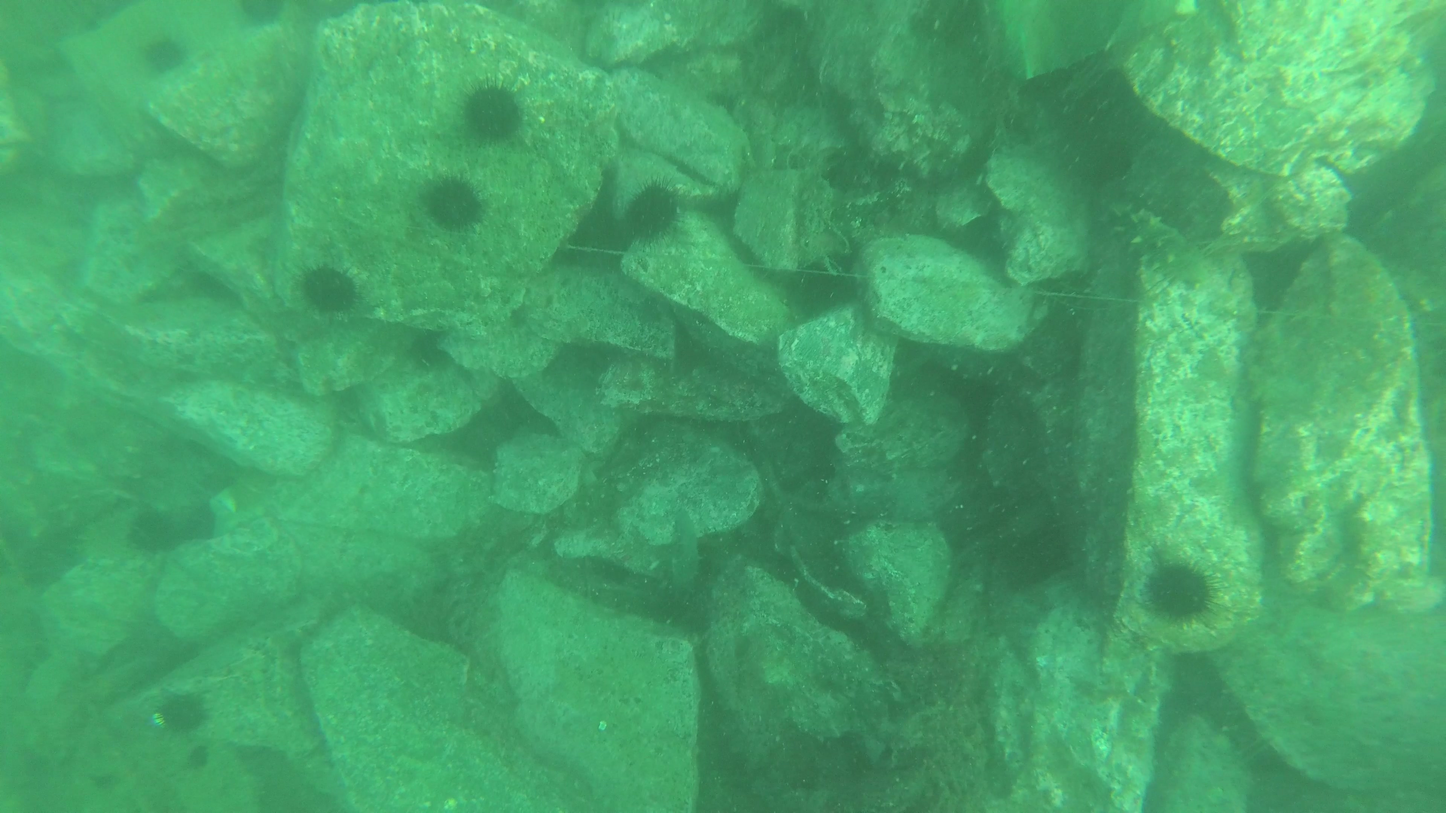echinus: (1107, 205, 1209, 294), (650, 508, 708, 610)
starfish: (1135, 545, 1223, 625), (615, 176, 686, 245), (460, 79, 523, 147), (294, 262, 360, 323), (418, 175, 487, 232), (118, 508, 185, 562), (155, 684, 211, 740), (137, 37, 185, 82), (239, 0, 287, 30)
